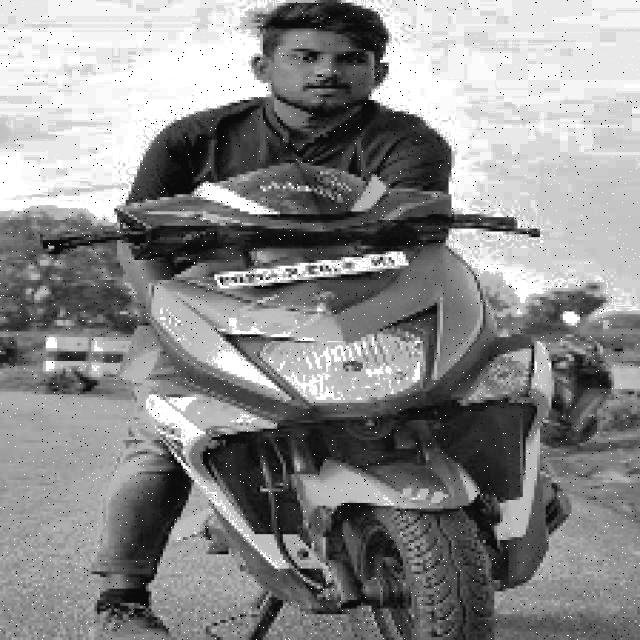Bike: (119, 182, 589, 640)
